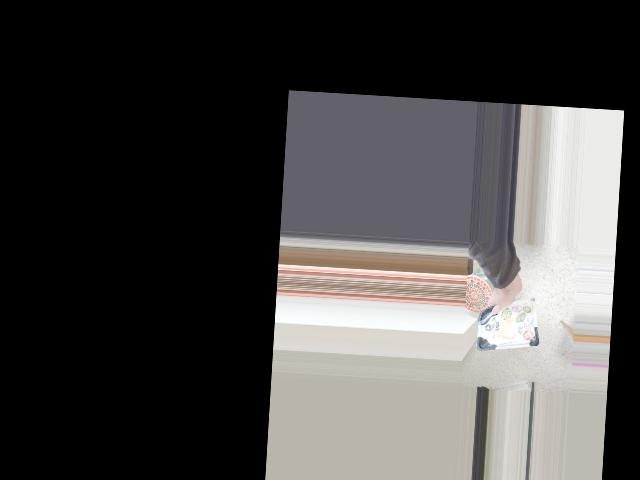cheese: (488, 286, 540, 338)
